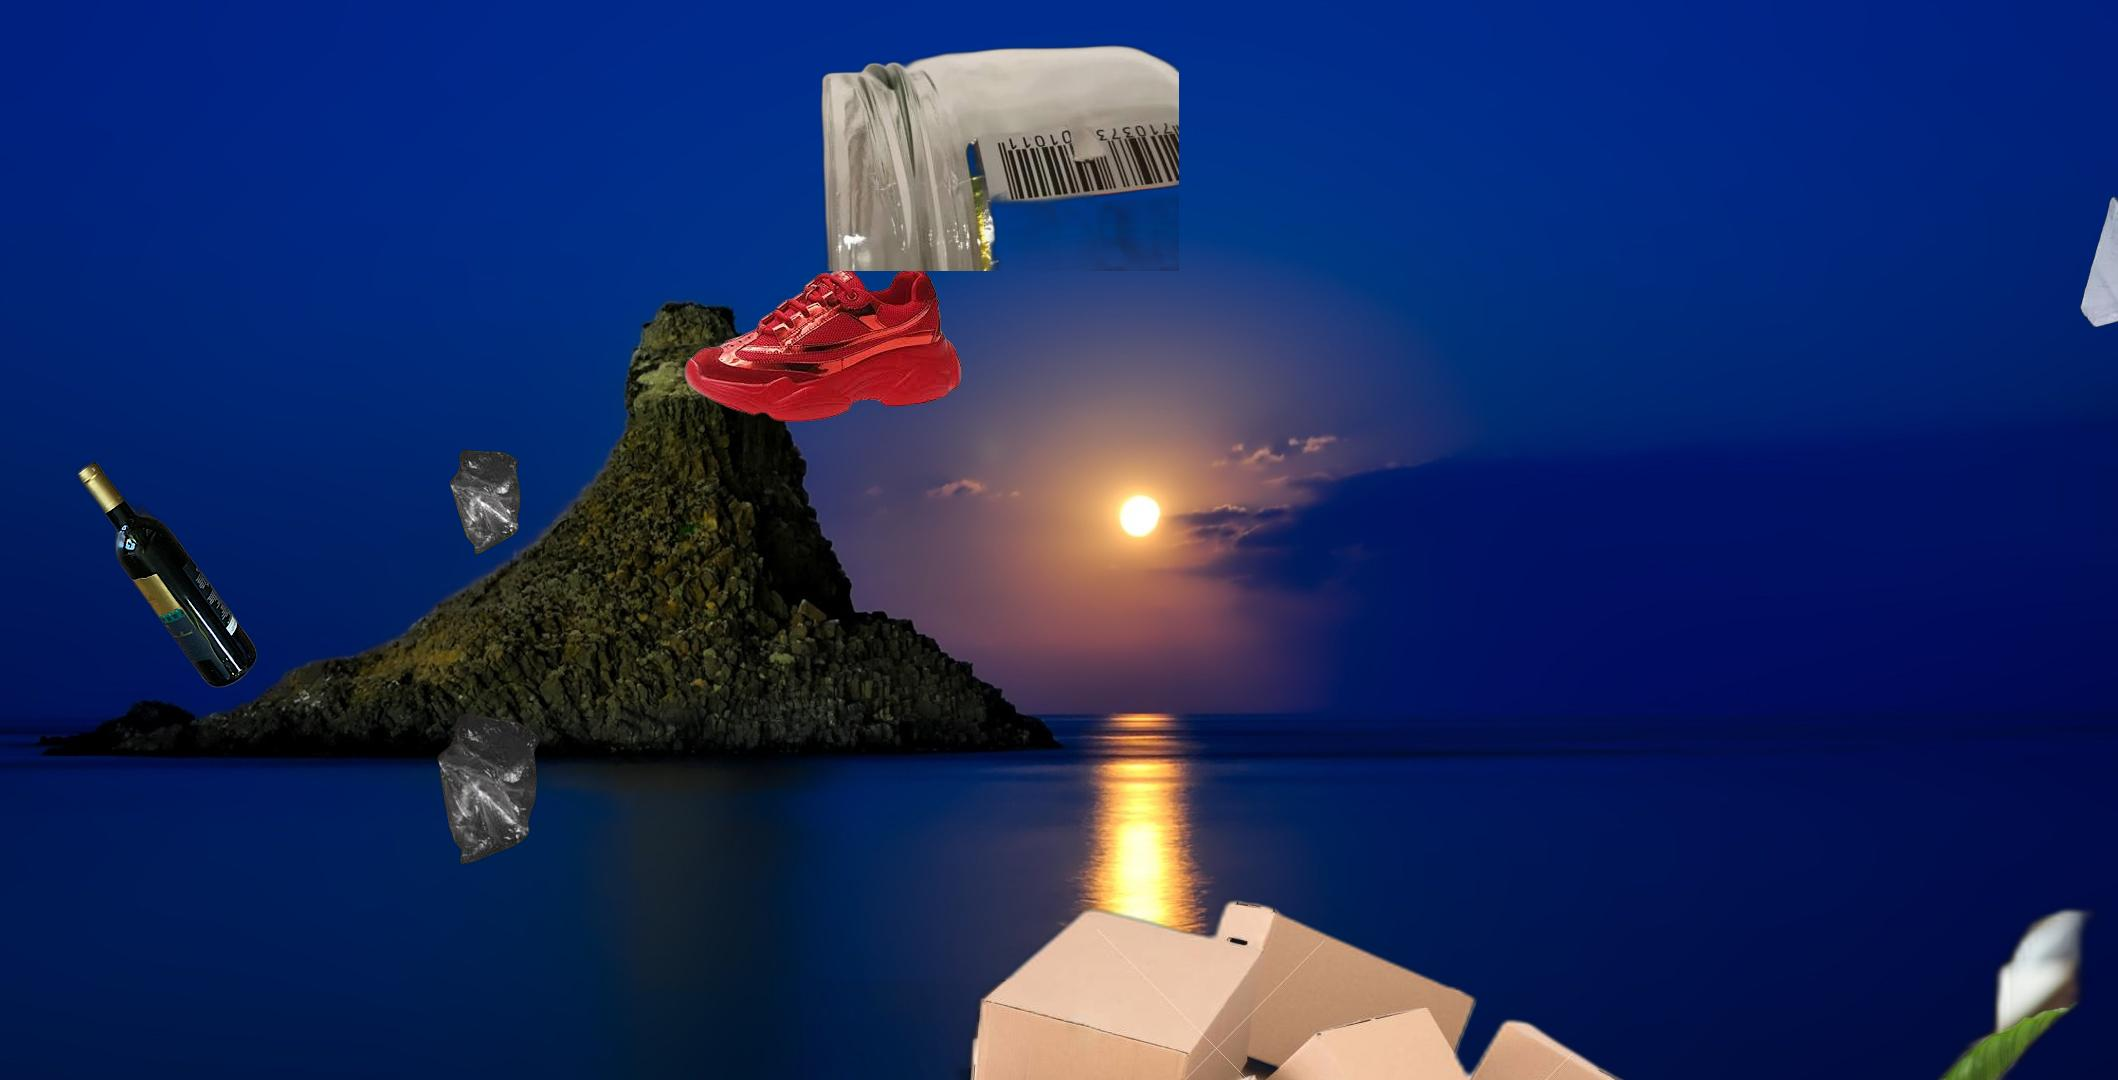glass: (817, 41, 1179, 271), (74, 456, 262, 697)
plastic-bag: (432, 709, 543, 868), (448, 448, 523, 557), (2078, 191, 2118, 331)
shoes: (682, 251, 965, 426)
trashbox-cardboard: (656, 893, 1789, 1080), (1754, 898, 2118, 1080)
